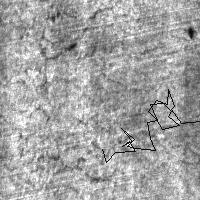crazing: (35, 118, 197, 183), (102, 89, 200, 162), (35, 4, 124, 63)
